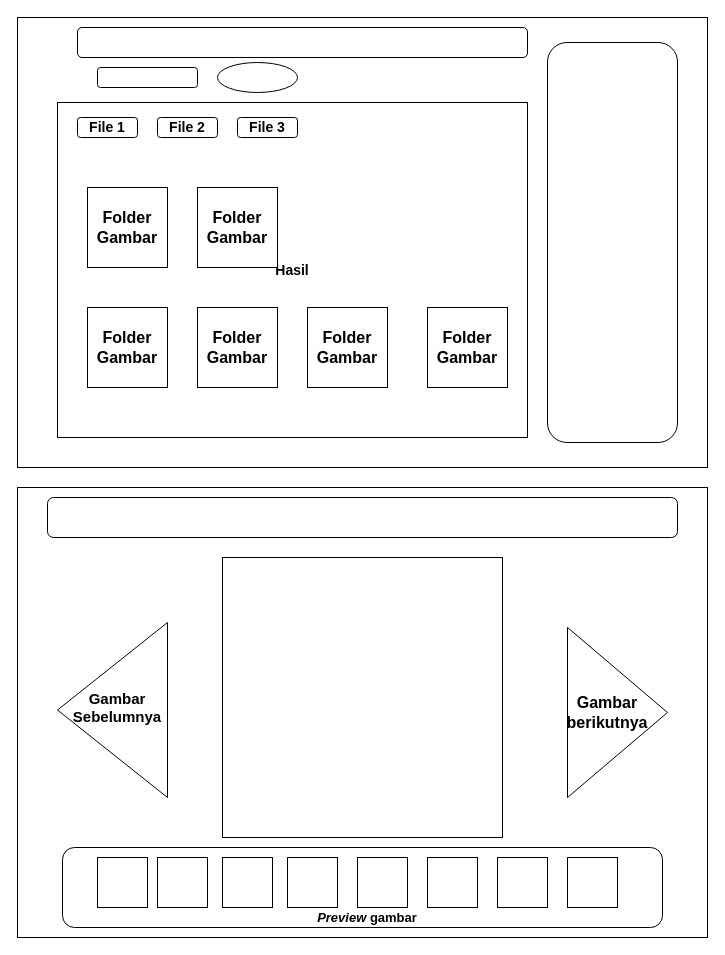
This 725x955 diagram has some shape labels left out. Here are the shapes that lost their labels. From the top down, the centre of each, then its label:
At pixel 302 42: "Menu Halaman".
At pixel 147 77: "Masukan Gambar".
At pixel 257 77: "Mulai proses".
At pixel 612 242: "Menu Pengaturan".
At pixel 362 517: "Menu Gambar".
At pixel 362 697: "Gambar Hasil".
